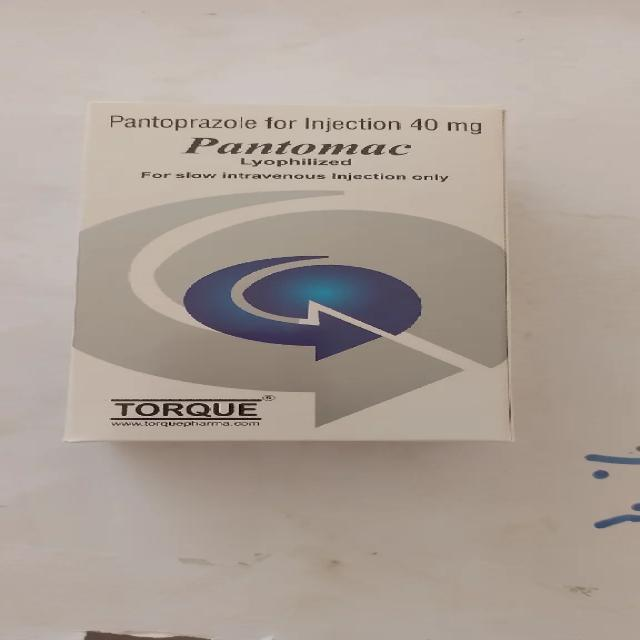drug-name: (182, 135, 421, 158)
